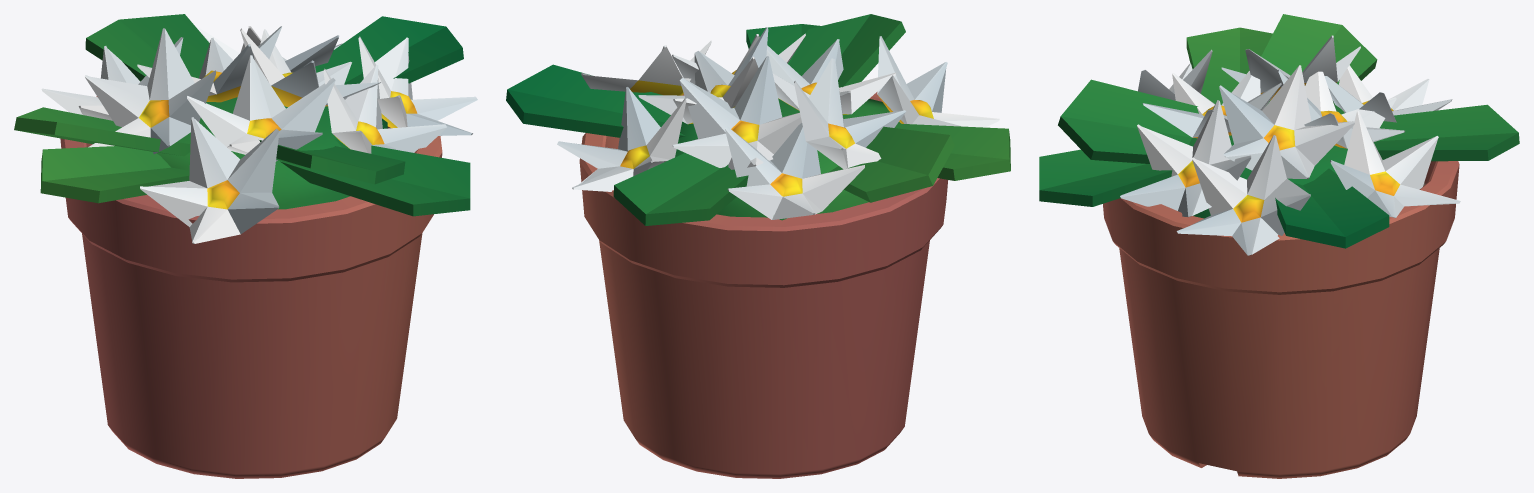
File: FlowerPotWhite.fbx
3 renders of one model, left to right at view 1: azimuth 30°, elevation 25°; view 2: azimuth 150°, elevation 25°; view 3: azimuth 270°, elevation 25°, orthographic. The views are drawn at different scales.
Visible parts, largest first — view 1: FlowerPotWhite; view 2: FlowerPotWhite; view 3: FlowerPotWhite.
Part boxes in pixels (x1=…): FlowerPotWhite: x1=14, y1=14, x2=477, y2=478; FlowerPotWhite: x1=506, y1=14, x2=1010, y2=478; FlowerPotWhite: x1=1039, y1=14, x2=1519, y2=478.
Bounding box in the file's own units: 0.7464 × 0.5929 × 0.7158.
